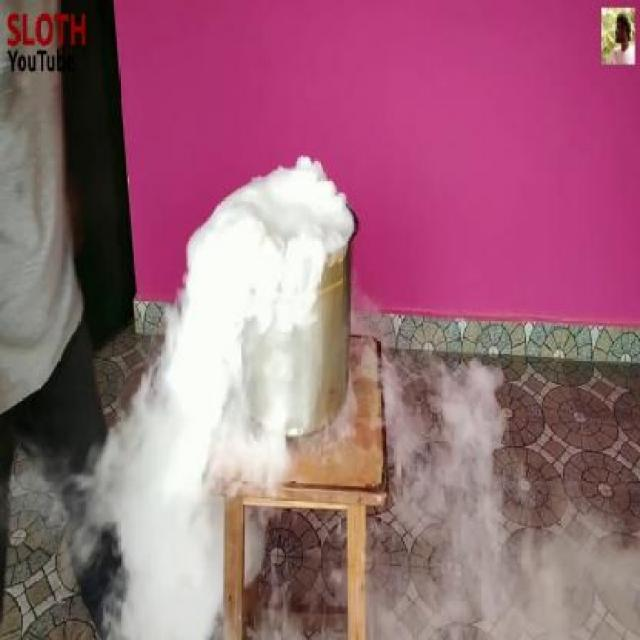smoke: (151, 135, 360, 468)
